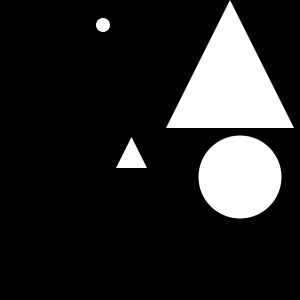rectangle: (199, 136, 282, 218), (96, 18, 110, 32)
triangle: (166, 0, 294, 128), (116, 137, 147, 168)
